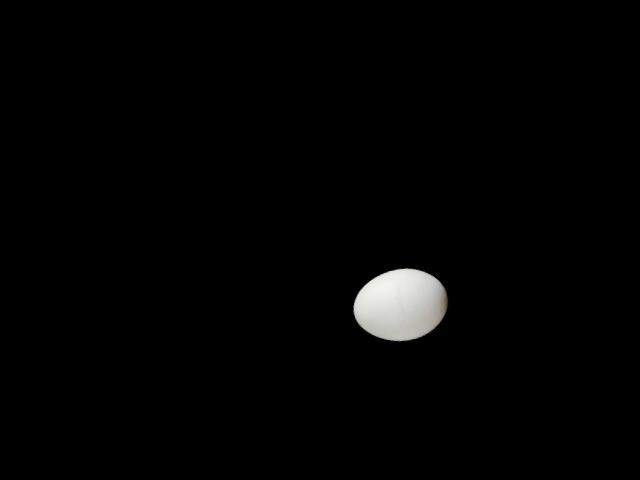egg: (348, 261, 453, 347)
